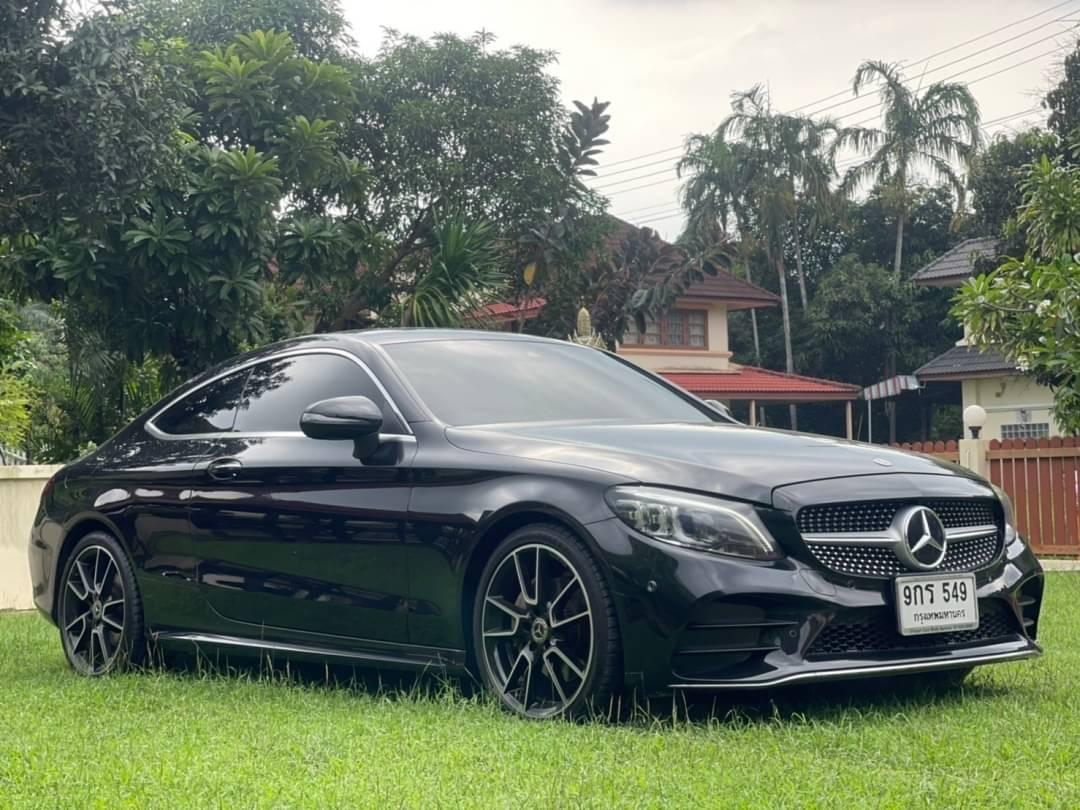license-plate: (893, 570, 984, 635)
